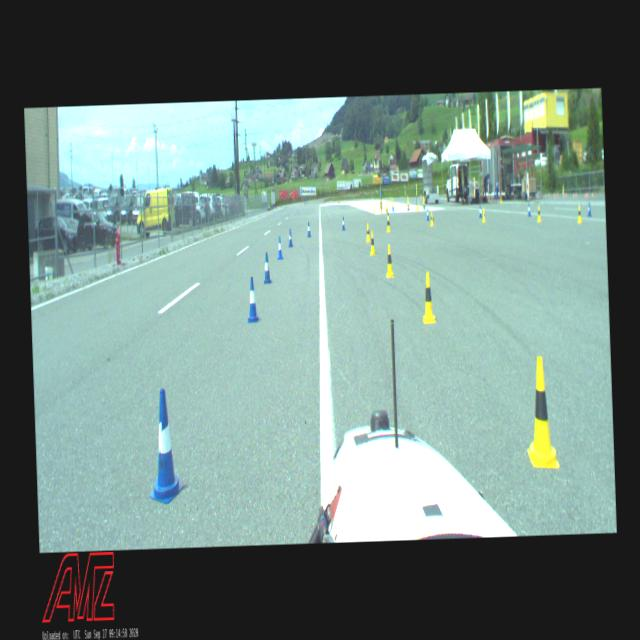blue_cone: (146, 388, 184, 504), (246, 276, 258, 322), (263, 252, 271, 282), (277, 236, 282, 259), (587, 201, 592, 216), (288, 228, 292, 246), (306, 222, 310, 236), (526, 201, 530, 215), (426, 207, 430, 220), (340, 216, 344, 229), (386, 211, 390, 224), (479, 205, 482, 218)
yellow_cone: (524, 356, 558, 469), (422, 272, 435, 322), (386, 244, 394, 276), (370, 231, 376, 254), (576, 205, 582, 222), (366, 224, 370, 242), (429, 212, 434, 226), (386, 215, 390, 231), (536, 206, 540, 222), (482, 208, 486, 220)
